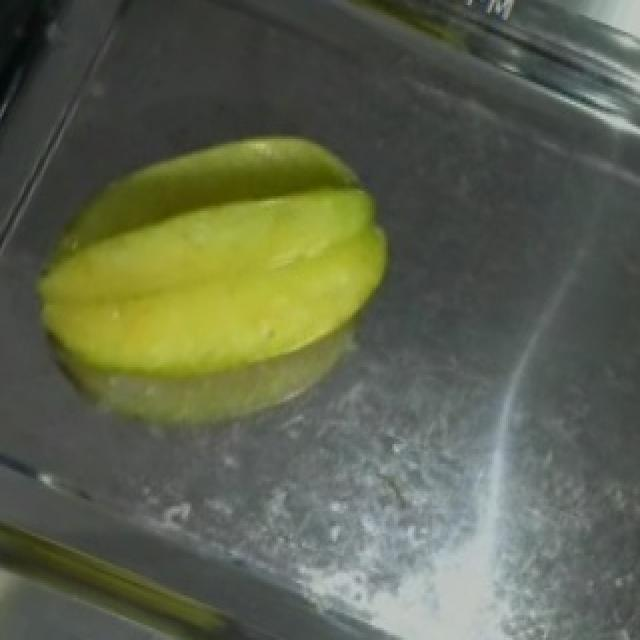fruit: (0, 70, 440, 493), (4, 516, 270, 640)
